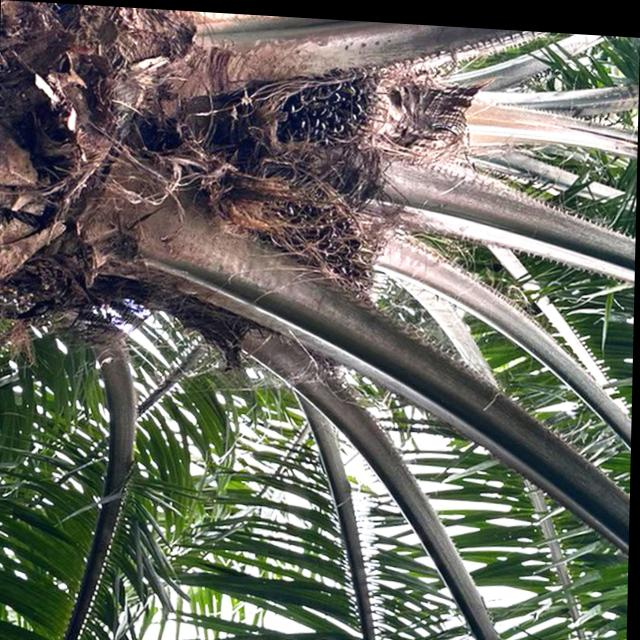ripe: (224, 177, 398, 310)
